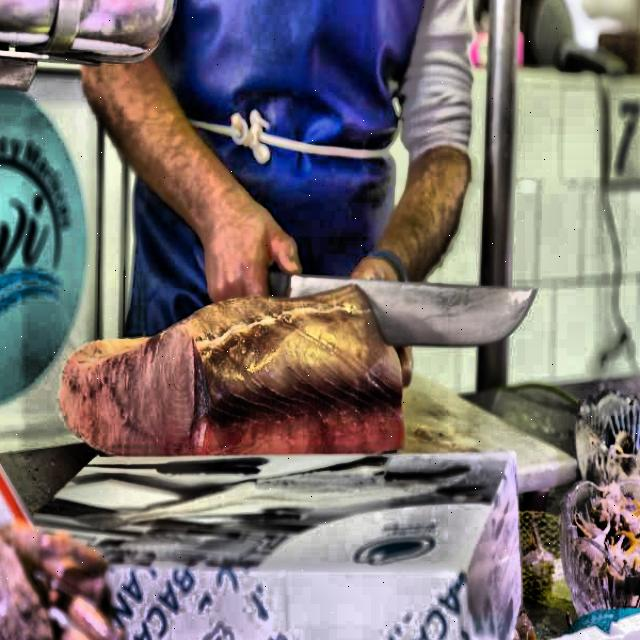knife: (244, 259, 544, 355)
